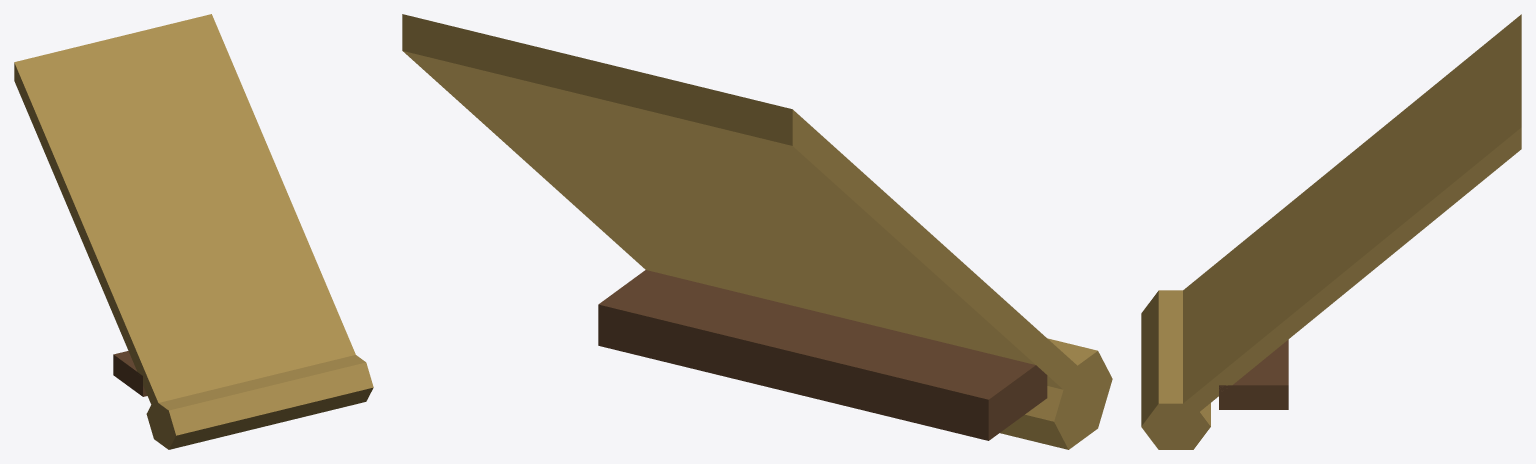
The model's file is RoofEaveThatch.fbx.
3 views of the same model, side by side, from view 1: azimuth 30°, elevation 25°; view 2: azimuth 150°, elevation 25°; view 3: azimuth 270°, elevation 25° (orthographic). The views are drawn at different scales.
Visible parts, largest first — view 1: Kit_RoofEaveThatch; view 2: Kit_RoofEaveThatch; view 3: Kit_RoofEaveThatch.
Part boxes in pixels (<box>): Kit_RoofEaveThatch: <box>14,14,373,449</box>; Kit_RoofEaveThatch: <box>402,14,1112,449</box>; Kit_RoofEaveThatch: <box>1141,14,1521,449</box>.
Size of the model in its own units: 1 by 1.33 by 1.42.
